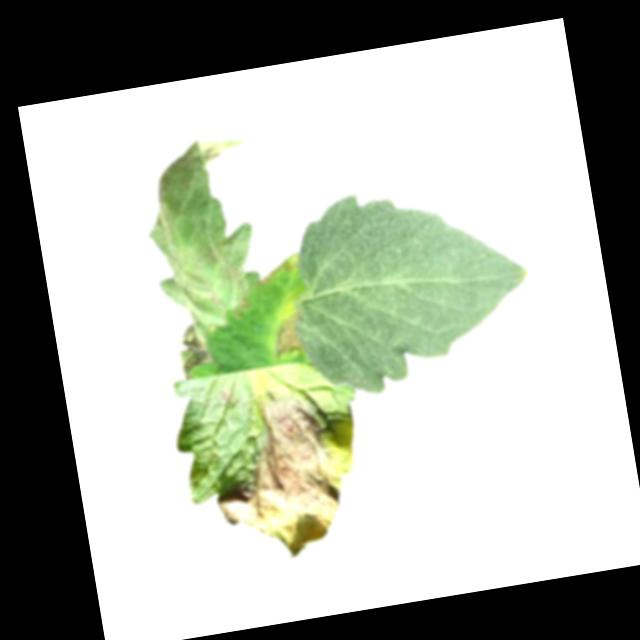Late_blight: (200, 379, 371, 571), (131, 133, 274, 340), (171, 322, 214, 380), (270, 307, 309, 358), (219, 384, 238, 407)
